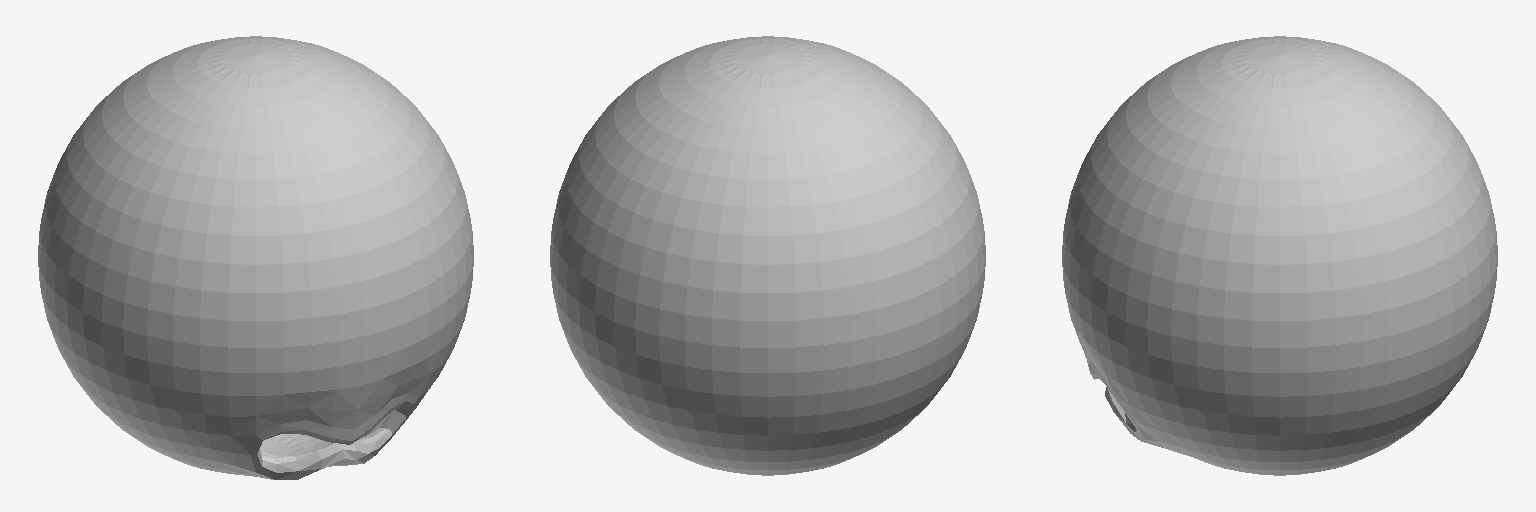
The model's file is morph_scared.obj.
3 views of the same model, side by side, from view 1: azimuth 30°, elevation 25°; view 2: azimuth 150°, elevation 25°; view 3: azimuth 270°, elevation 25° (orthographic).
Parts seen in each view (by area): view 1: peg_head_ui pegman_head peg_head HyperNURBS_1 HEAD; view 2: peg_head_ui pegman_head peg_head HyperNURBS_1 HEAD; view 3: peg_head_ui pegman_head peg_head HyperNURBS_1 HEAD.
Part boxes in pixels (x1,y1,x2,y2): peg_head_ui pegman_head peg_head HyperNURBS_1 HEAD: (38,36,473,479); peg_head_ui pegman_head peg_head HyperNURBS_1 HEAD: (550,36,985,475); peg_head_ui pegman_head peg_head HyperNURBS_1 HEAD: (1062,36,1497,475).
Bounding box in the file's own units: 88.94 × 90.26 × 88.94.